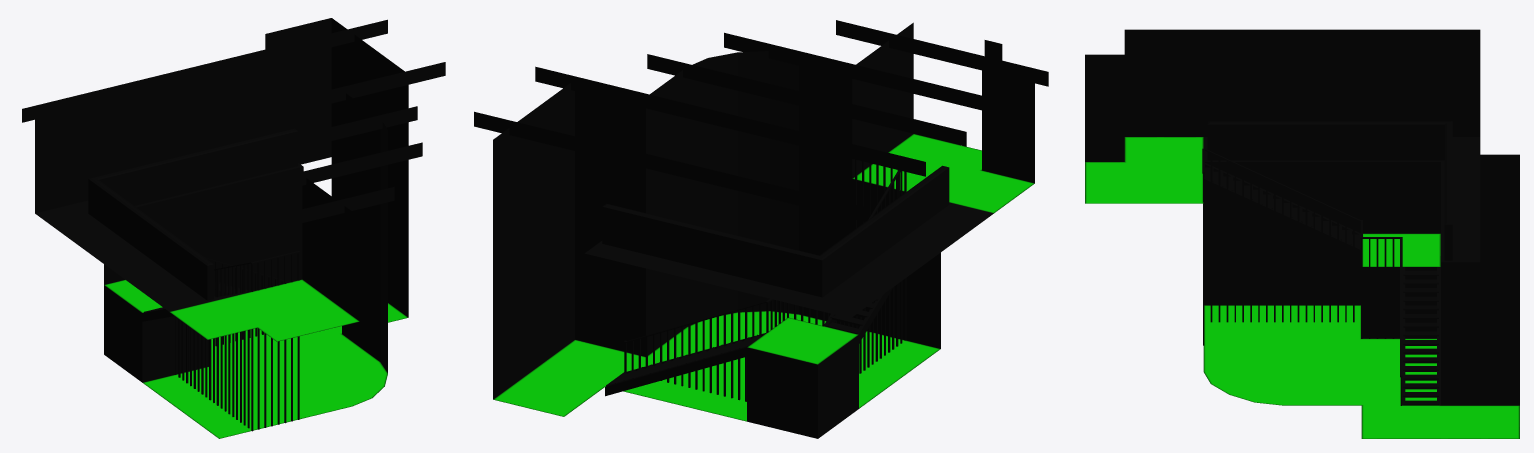
The model's file is small_chamber.glb.
3 views of the same model, side by side, from view 1: azimuth 30°, elevation 25°; view 2: azimuth 150°, elevation 25°; view 3: azimuth 270°, elevation 25° (orthographic). The views are drawn at different scales.
Parts seen in each view (by area): view 1: Small_Chamber, Small_Chamber_Wood_Support, Small_Chamber_Railing, Small_Chamber_Stair_Mesh; view 2: Small_Chamber, Small_Chamber_Wood_Support, Small_Chamber_Railing, Small_Chamber_Stair_Mesh; view 3: Small_Chamber, Small_Chamber_Railing, Small_Chamber_Stair_Mesh.
Boxes of the visible parts, x1,y1,x2,y2 form: Small_Chamber: (35,18,408,438); Small_Chamber_Wood_Support: (22,19,445,249); Small_Chamber_Railing: (175,251,300,431); Small_Chamber_Stair_Mesh: (142,281,251,321); Small_Chamber: (493,22,1034,438); Small_Chamber_Wood_Support: (474,20,1048,221); Small_Chamber_Railing: (624,159,906,401); Small_Chamber_Stair_Mesh: (605,287,893,396); Small_Chamber: (1085,29,1519,438); Small_Chamber_Railing: (1202,148,1402,405); Small_Chamber_Stair_Mesh: (1204,163,1440,405).
Size of what is drawn, in the model's own units: 11 by 7.45 by 11.
